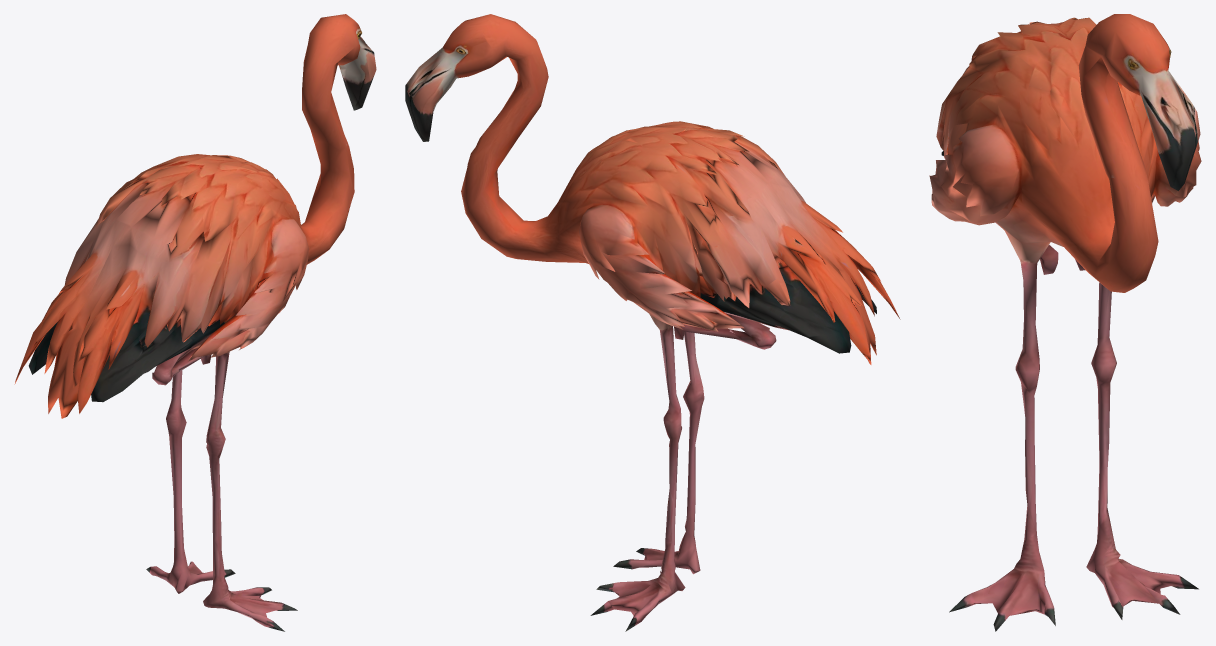
Rendered from fauna-flamingo.glb.
3 views of the same model, side by side, from view 1: azimuth 30°, elevation 25°; view 2: azimuth 150°, elevation 25°; view 3: azimuth 270°, elevation 25° (orthographic). The views are drawn at different scales.
Visible parts, largest first — view 1: tripo_node_926ebebc-4e50-47e7-b042-0632f82644eb; view 2: tripo_node_926ebebc-4e50-47e7-b042-0632f82644eb; view 3: tripo_node_926ebebc-4e50-47e7-b042-0632f82644eb.
Boxes of the visible parts, <box> form: tripo_node_926ebebc-4e50-47e7-b042-0632f82644eb: <box>14,14,376,631</box>; tripo_node_926ebebc-4e50-47e7-b042-0632f82644eb: <box>405,14,900,631</box>; tripo_node_926ebebc-4e50-47e7-b042-0632f82644eb: <box>929,14,1201,631</box>.
Size of the model in its own units: 0.7857 by 0.999 by 0.3673.
1 material, 1 textured.
